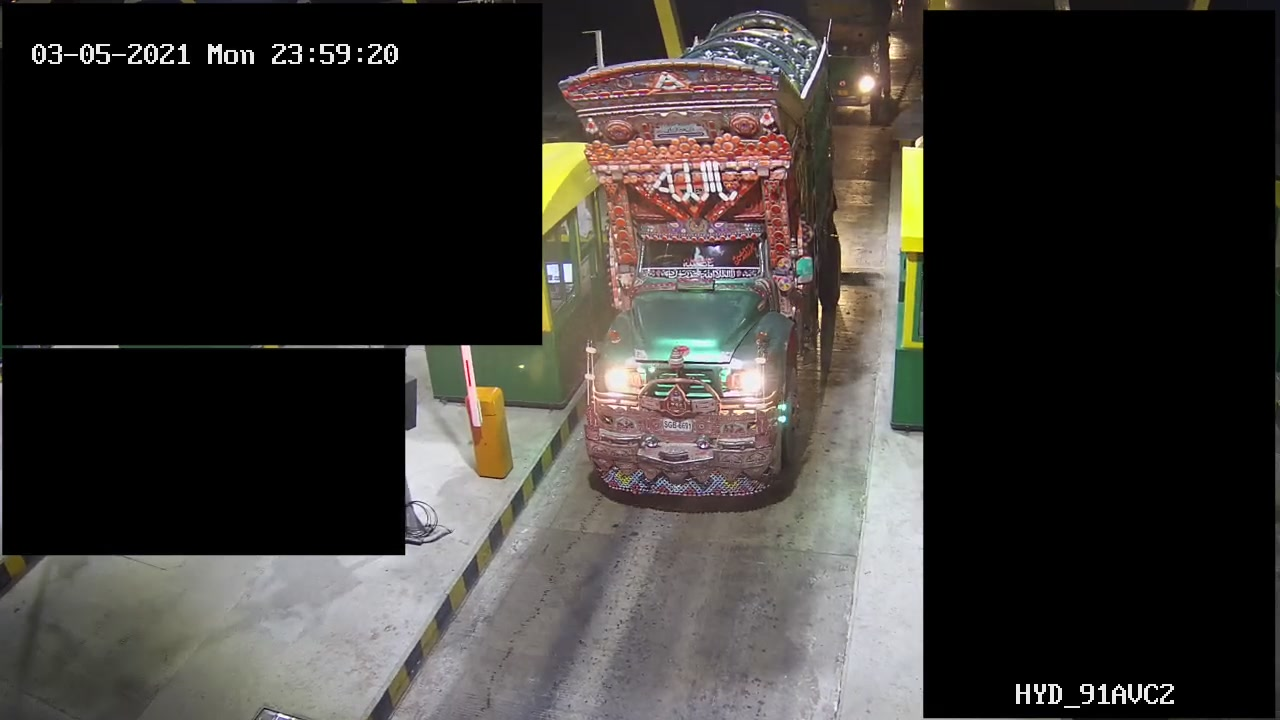F5: (540, 6, 838, 519)
